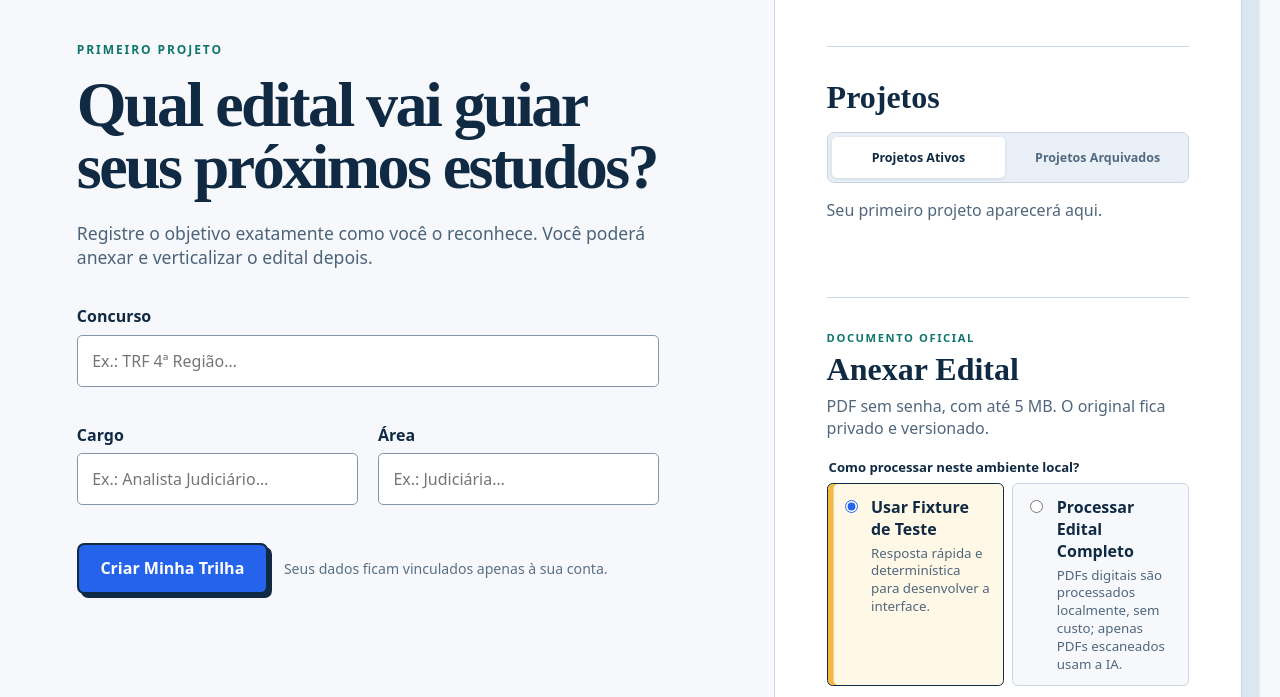
Test case: first project journey › creates a project and shows it again from the persisted list
(page scrolled)
Type "TRF 4ª Região" into the field labelled "Concurso". click: coordinates (368, 360)
box: [77,334,659,386]
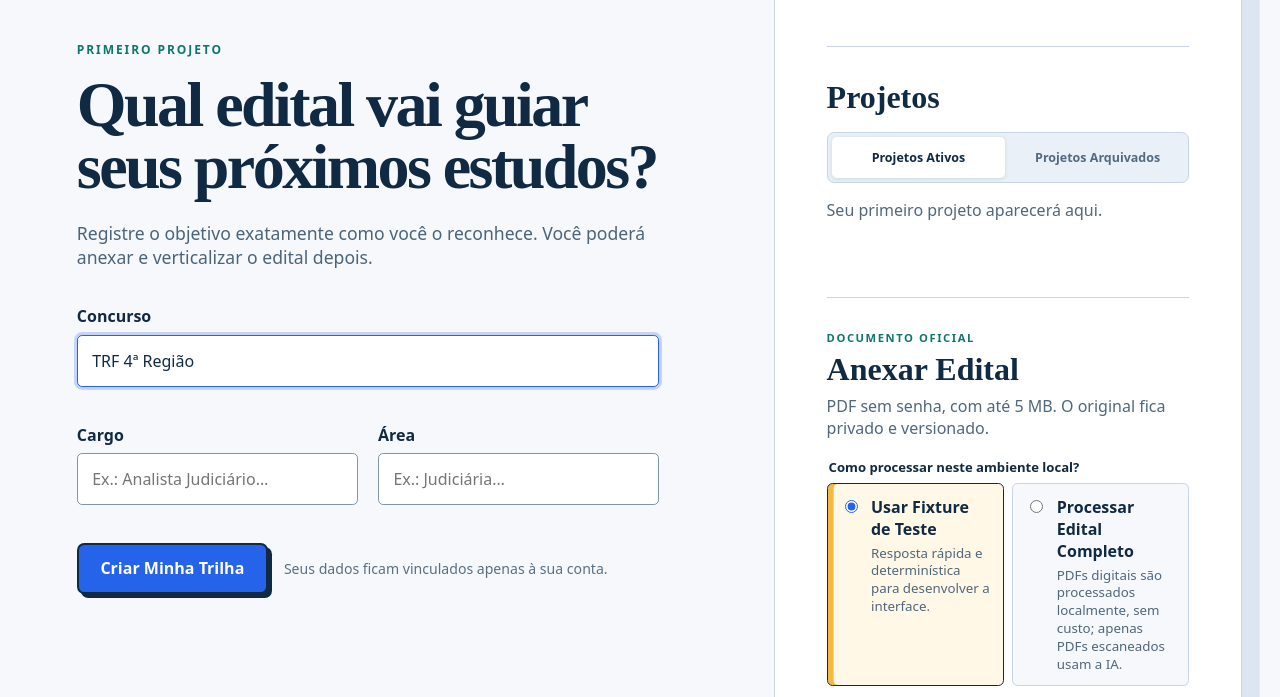
Type "Analista Judiciário" into the field labelled "Cargo". click: coordinates (217, 479)
box: [77,453,358,505]
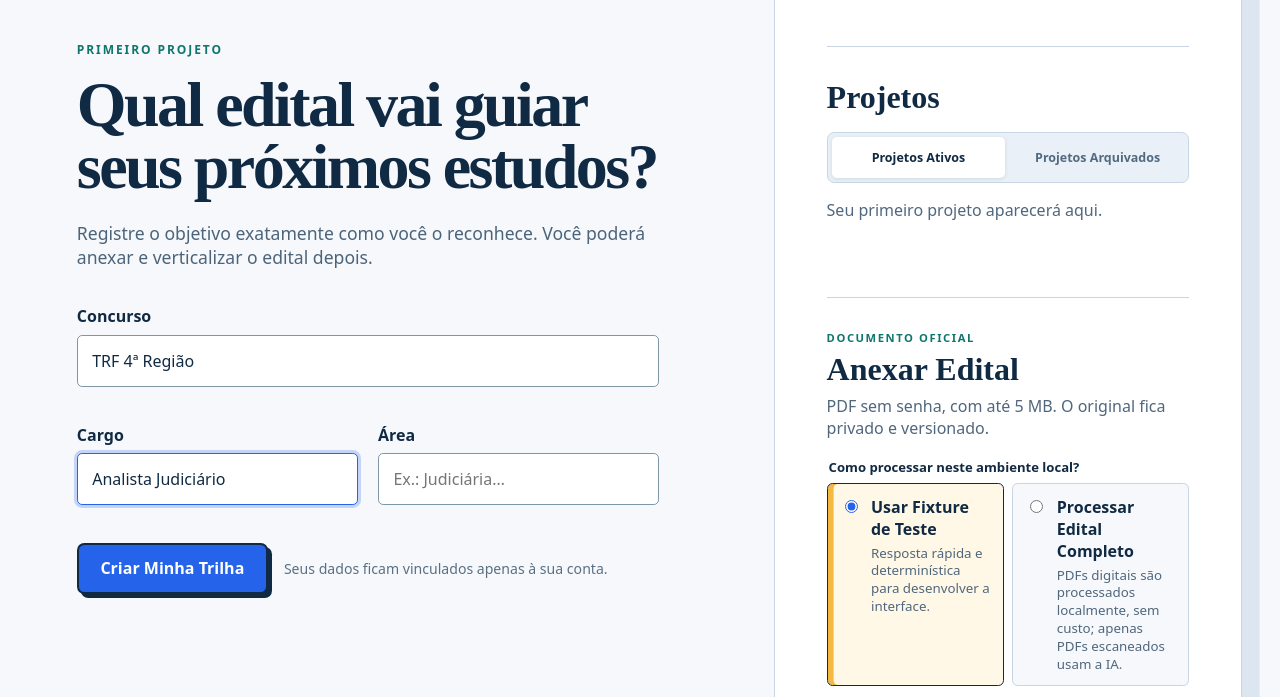
Type "Judiciária" into the field labelled "Área". click: coordinates (519, 479)
box: [378,453,659,505]
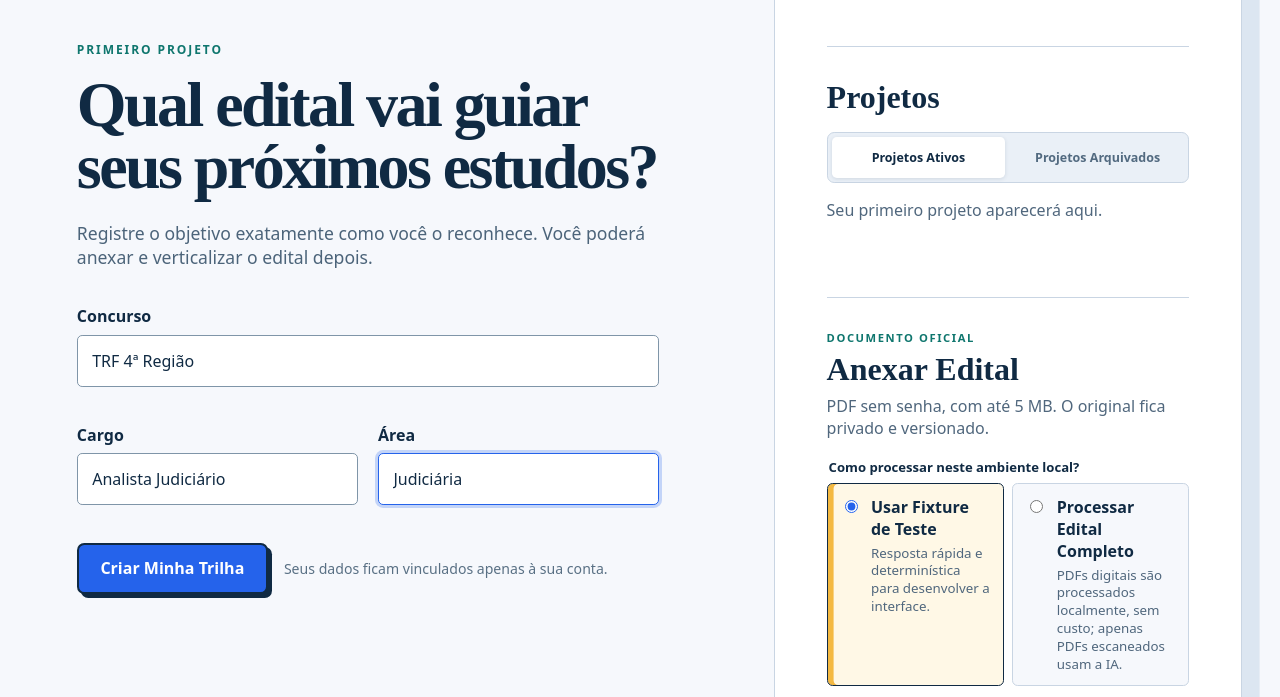
Click the button "Criar Minha Trilha". click: coordinates (172, 568)
box: [77,543,268,594]
(page scrolled)
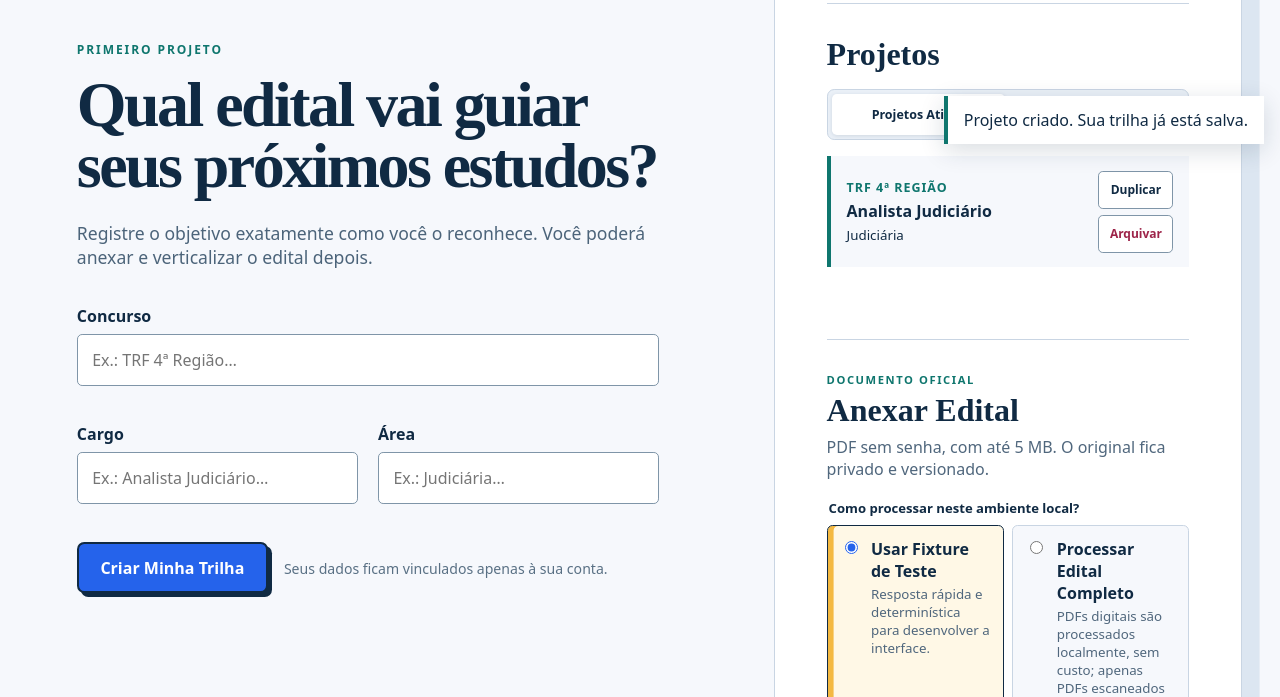
Expected: the text "Analista Judiciário" is shown, [847,200,992,222]
Expected: the text "Judiciária" is shown, [847,226,904,244]
Expected: the text "Projeto criado. Sua trilha já está salva." is shown, [944,96,1264,144]
